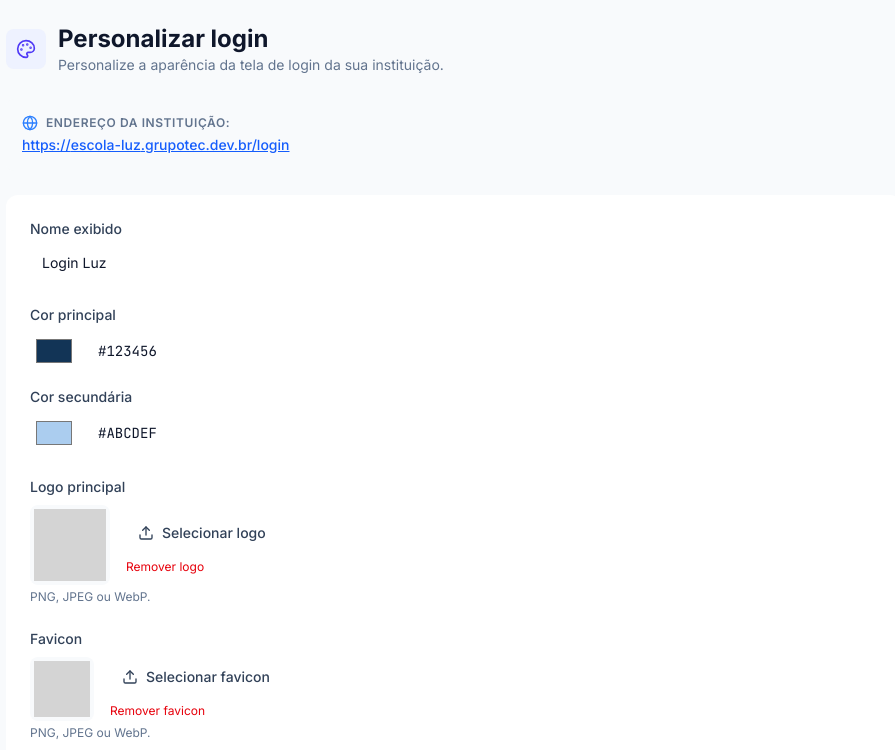
Test: DirectorLoginBrandingPage › carrega currentInstitution sem seletor e atualiza o preview
Expected: the heading "Personalizar login" is shown, [58,24,268,53]
Expected: the link "https://escola-luz.grupotec.dev.br/login" is shown, [22,136,290,153]
Replace the text in the field labelled "Nome exibido" with "Novo Login Luz": (454, 263) [30,245,878,281]
(page scrolled)
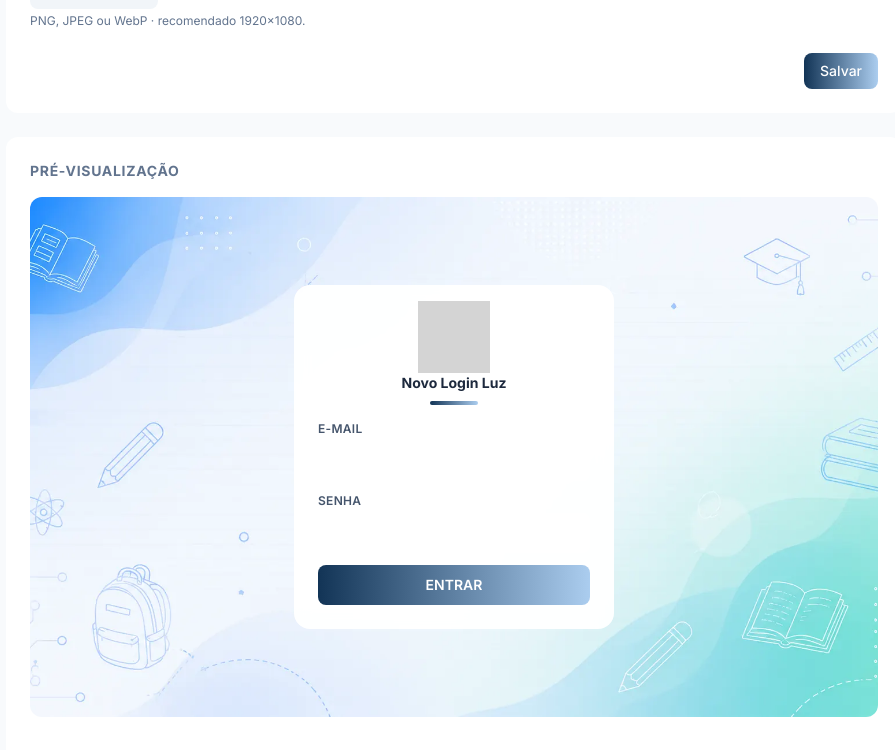
Result: the text "Novo Login Luz" is shown at [402,373,506,393]
